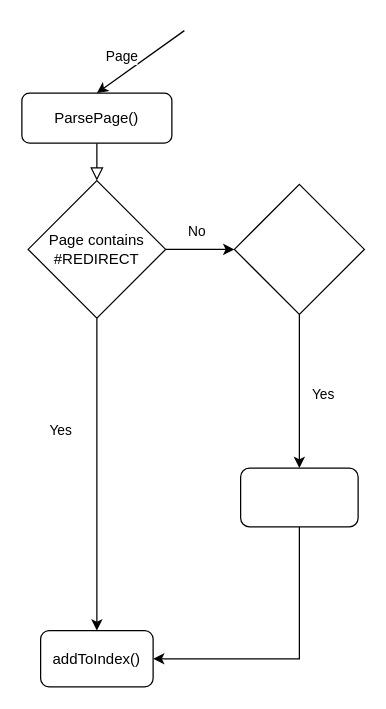
Some shapes in this 386 by 709 pixel diagram are drawn without their labels. The centre of each missing label's shape, as x and y in pixels:
"Page contains InfoBox" goes at [298,248].
"parseInfoBox()" goes at [298,497].
